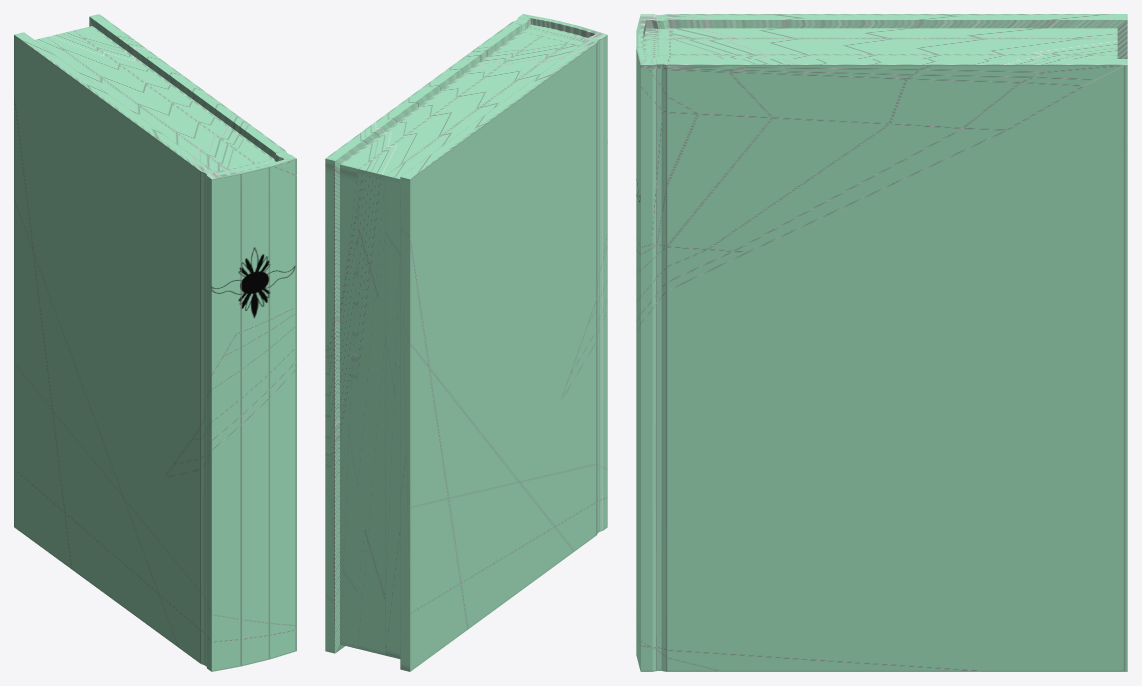
The model's file is book7.fbx.
3 renders of one model, left to right at view 1: azimuth 30°, elevation 25°; view 2: azimuth 150°, elevation 25°; view 3: azimuth 270°, elevation 25°, orthographic. The views are drawn at different scales.
Visible parts, largest first — view 1: Architexture; view 2: Architexture; view 3: Architexture.
Boxes of the visible parts, x1,y1,x2,y2 form: Architexture: (14,14,296,671); Architexture: (325,14,607,671); Architexture: (636,14,1127,671).
Bounding box in the file's own units: 2.71 × 15 × 11.01.
1 material, 1 textured.
